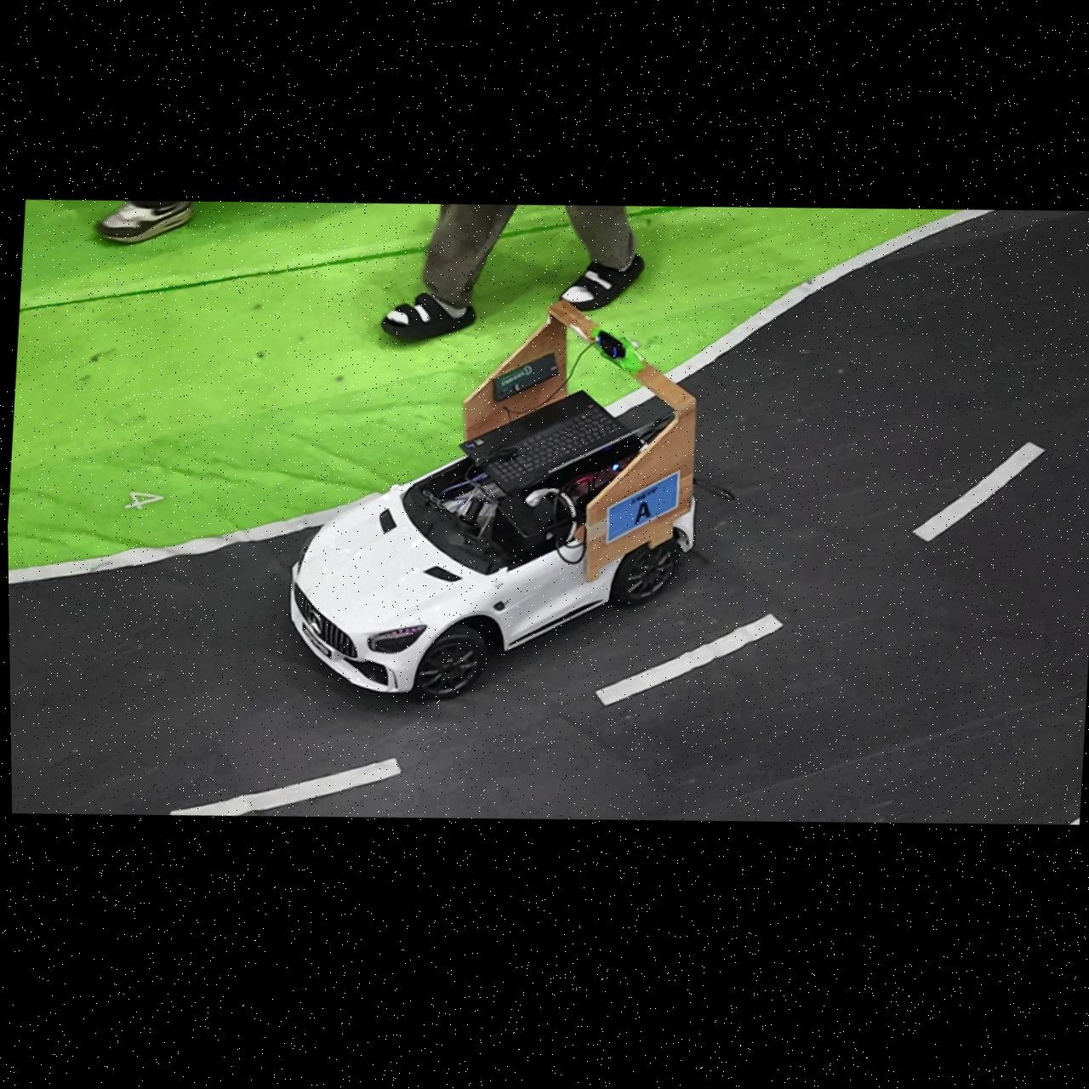broken_line: (595, 614, 783, 704), (170, 757, 403, 815), (913, 442, 1045, 540)
